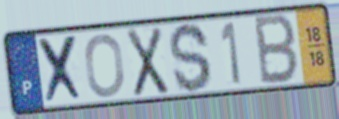1: (218, 20, 243, 87)
B: (253, 13, 300, 88)
O: (83, 32, 127, 100)
S: (167, 21, 214, 95)
X: (36, 33, 86, 107), (124, 25, 171, 101)
